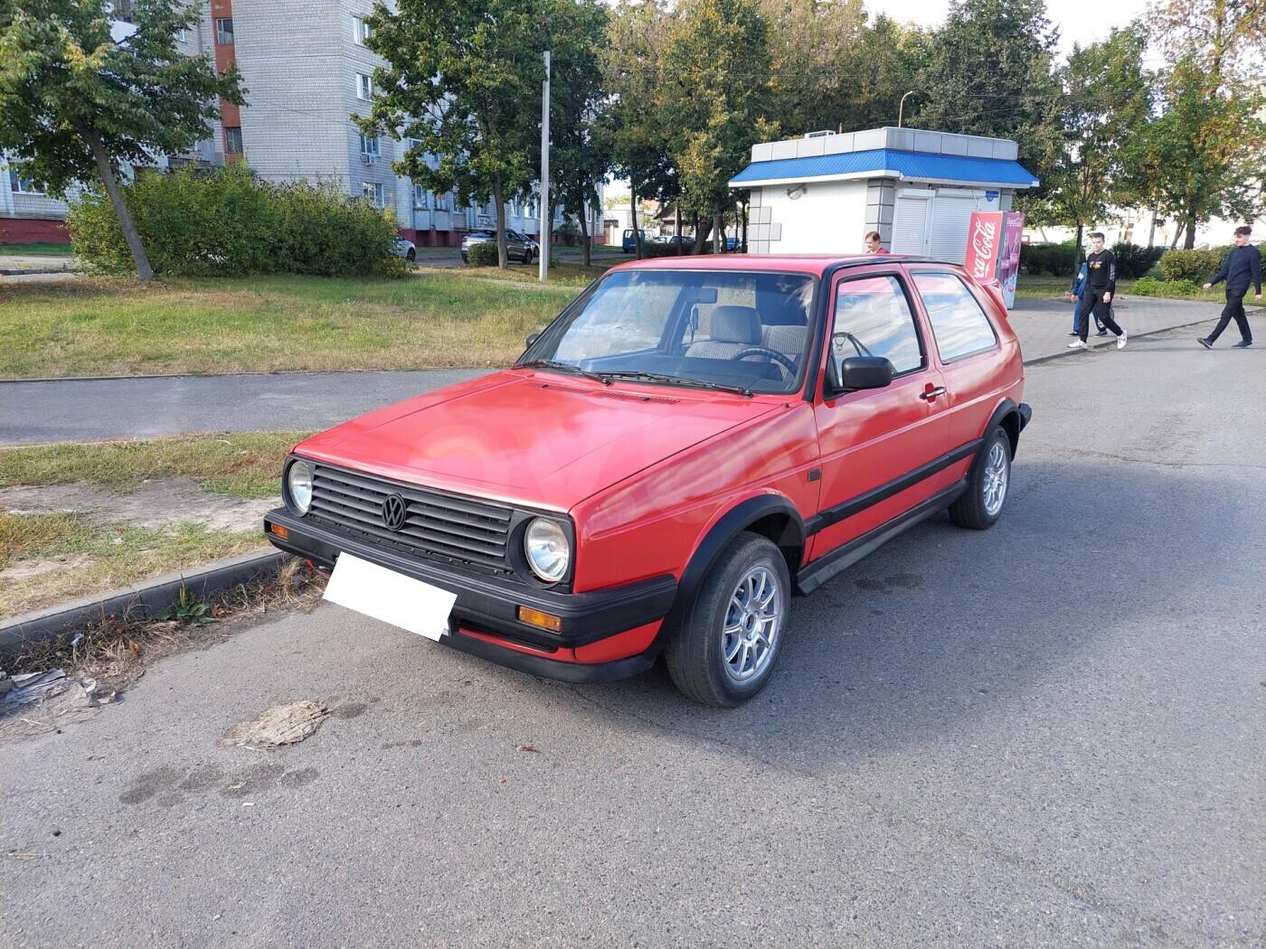Golf_1983-1992: (271, 253, 1026, 706)
